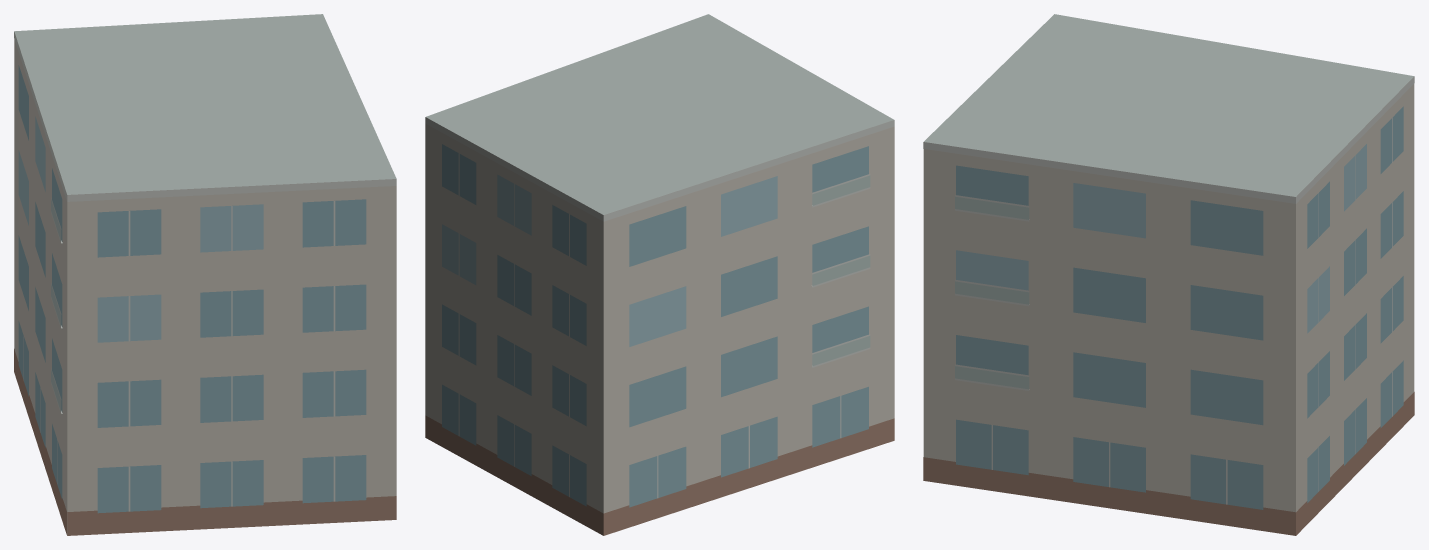
File: survey-upis-32998665.glb
The picture shows the model from 3 angles, left to right: view 1: azimuth 30°, elevation 25°; view 2: azimuth 150°, elevation 25°; view 3: azimuth 270°, elevation 25°; orthographic projection. The views are drawn at different scales.
Visible parts, largest first — view 1: survey-upis-32998665.tmp; view 2: survey-upis-32998665.tmp; view 3: survey-upis-32998665.tmp.
Part boxes in pixels (bbox=[...]): survey-upis-32998665.tmp: bbox=[14, 14, 396, 535]; survey-upis-32998665.tmp: bbox=[425, 14, 894, 535]; survey-upis-32998665.tmp: bbox=[923, 14, 1414, 535].
Bounding box in the file's own units: 13.79 × 11.9 × 15.64.
